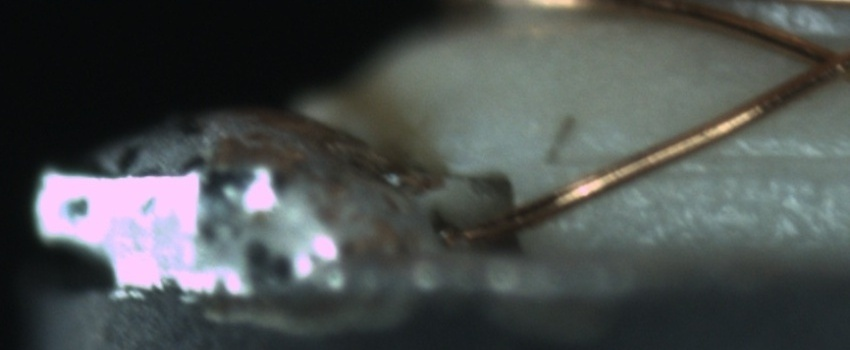CL: (793, 34, 849, 90)
DL: (567, 131, 850, 197)
